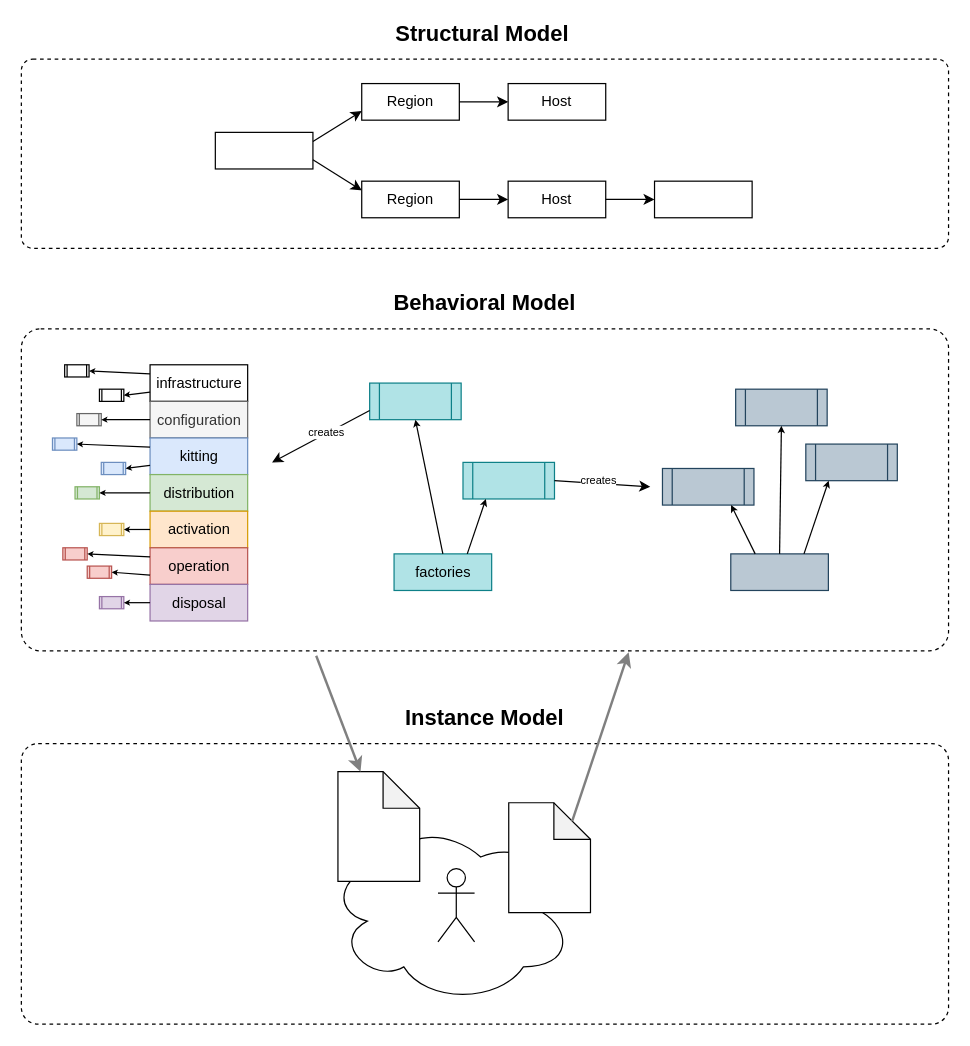
Some shapes in this 970 by 1046 pixel diagram are drawn without their labels. Here are the shapes that lost their labels. From the top down, the centre of each, then its label:
At point (263, 150): "Model".
At point (702, 199): "Component".
At point (779, 571): "actions".
At point (378, 825): "Data".
At point (549, 857): "Variables".
At point (456, 904): "User/Host".
